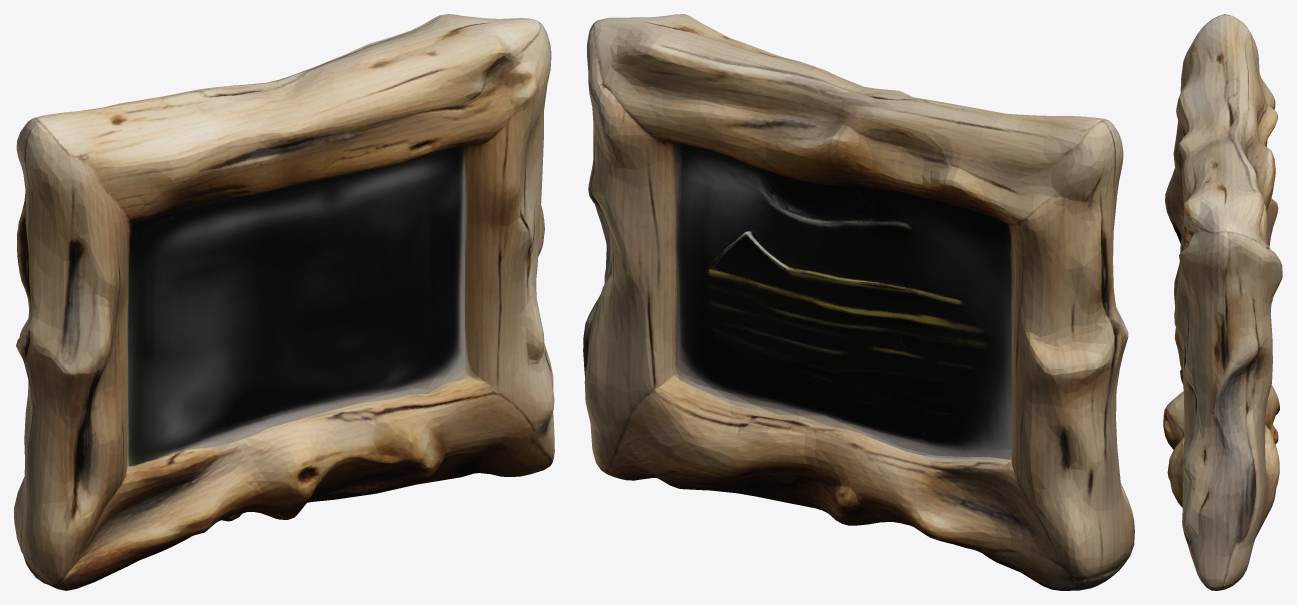
The model's file is driftwood-photo-frame-rustic.jpeg.glb.
3 views of the same model, side by side, from view 1: azimuth 30°, elevation 25°; view 2: azimuth 150°, elevation 25°; view 3: azimuth 270°, elevation 25° (orthographic). The views are drawn at different scales.
Parts seen in each view (by area): view 1: world; view 2: world; view 3: world.
Boxes of the visible parts, x1=… form: world: x1=14, y1=14, x2=554, y2=590; world: x1=583, y1=14, x2=1134, y2=590; world: x1=1163, y1=14, x2=1282, y2=590.
Bounding box in the file's own units: 0.9996 × 0.8569 × 0.2431.
1 material, 1 textured.
